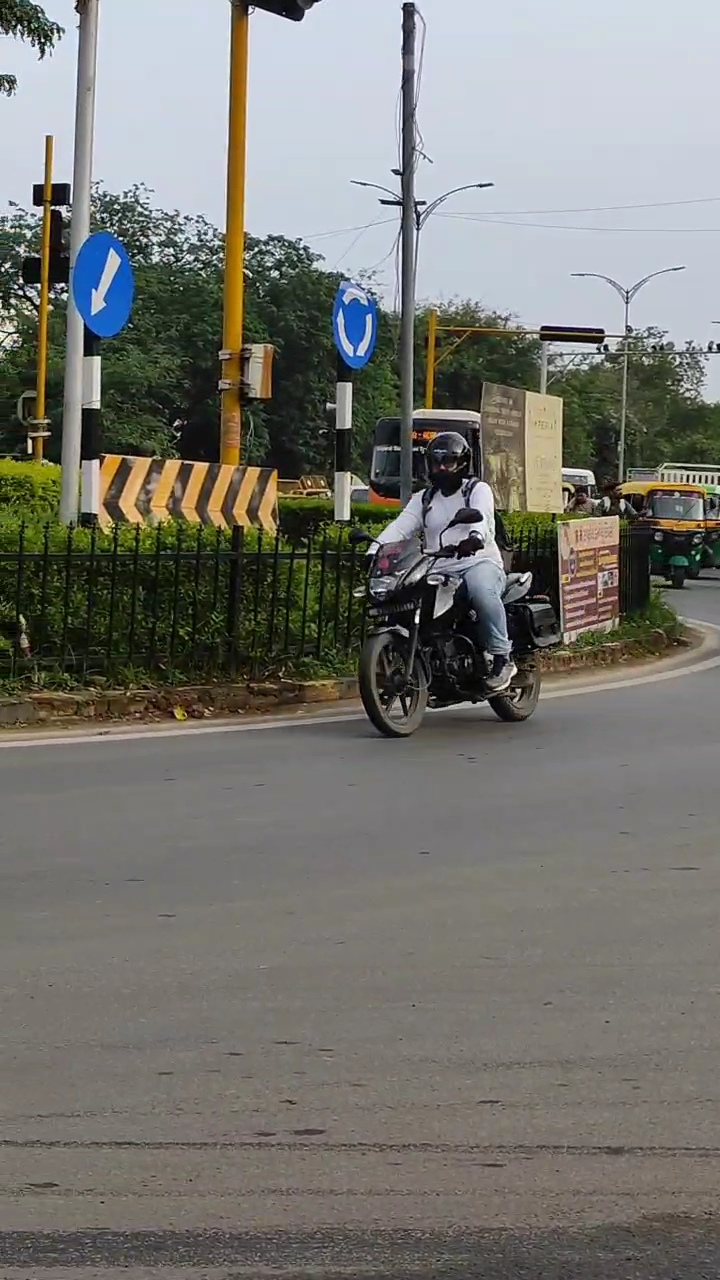BikeWithRider: (343, 422, 563, 747)
Helmet: (418, 424, 480, 497)
